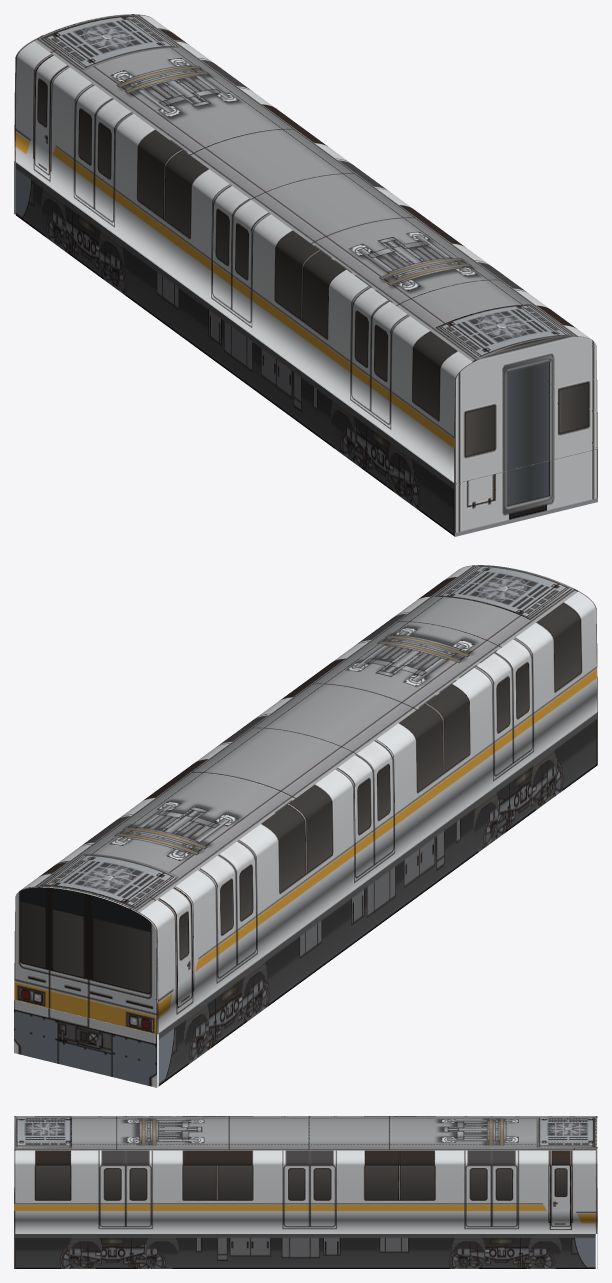
File: car2.glb
3 views of the same model, one above another, from view 1: azimuth 30°, elevation 25°; view 2: azimuth 150°, elevation 25°; view 3: azimuth 270°, elevation 25° (orthographic). The views are drawn at different scales.
Parts seen in each view (by area): view 1: kumamotodentetu-01-car2; view 2: kumamotodentetu-01-car2; view 3: kumamotodentetu-01-car2.
Boxes of the visible parts, box(x1,y1,x2,y2) form: kumamotodentetu-01-car2: box(14, 14, 597, 536); kumamotodentetu-01-car2: box(14, 565, 597, 1087); kumamotodentetu-01-car2: box(14, 1116, 597, 1268).
Size of the model in its own units: 3 by 3.54 by 16.03.
9 materials, 8 textured.
